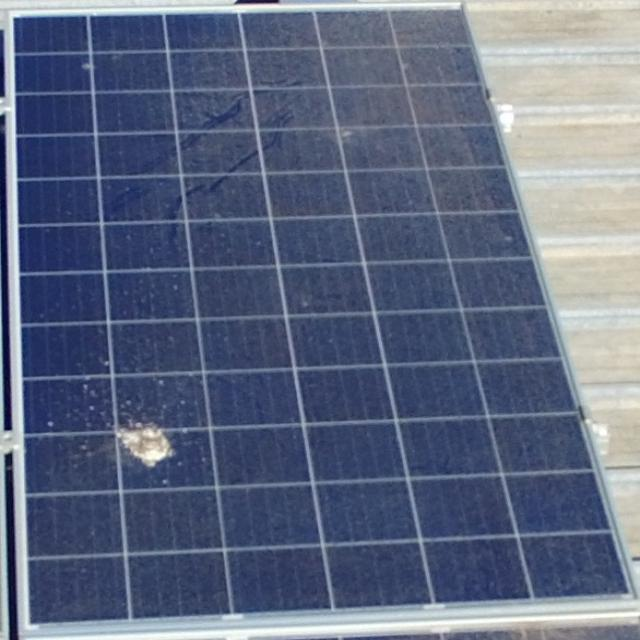Dust: (242, 6, 516, 330)
bird-droppings: (112, 417, 178, 467), (78, 59, 106, 85), (338, 120, 358, 142), (41, 416, 58, 429), (158, 372, 169, 391), (97, 358, 114, 368)
